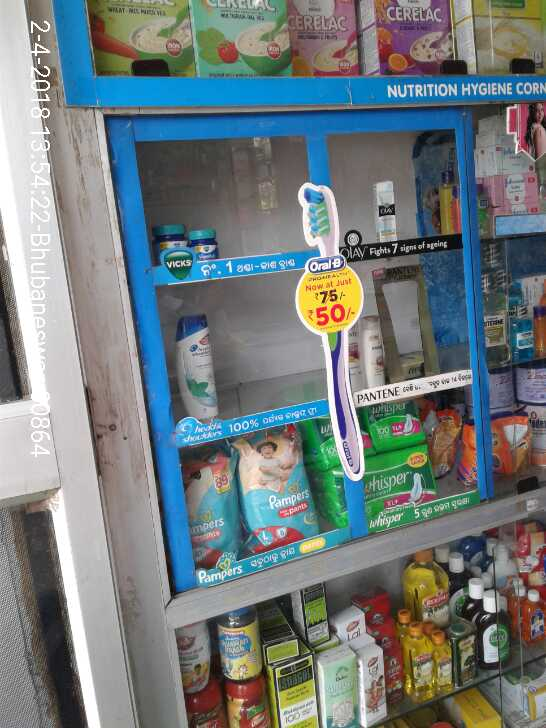vicks: (152, 224, 188, 262), (188, 226, 218, 262)
